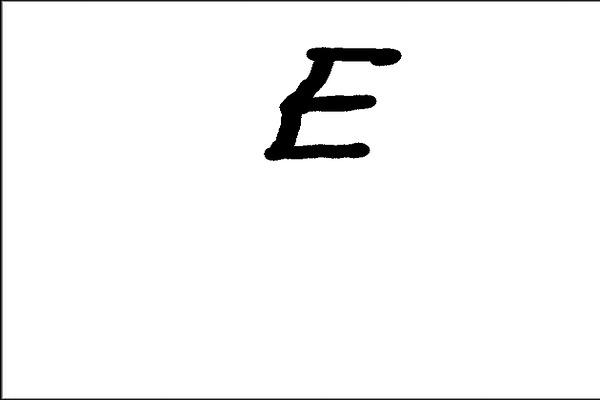E: (258, 38, 405, 167)
